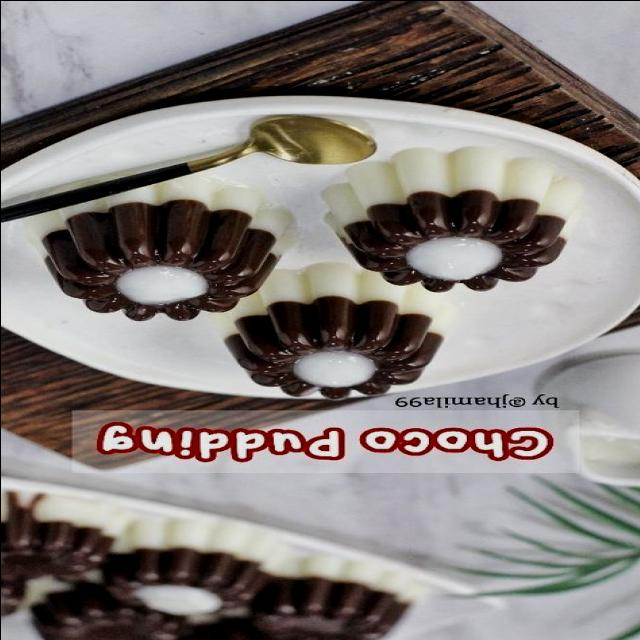puding: (320, 145, 583, 291), (227, 257, 463, 398), (42, 196, 288, 319)
